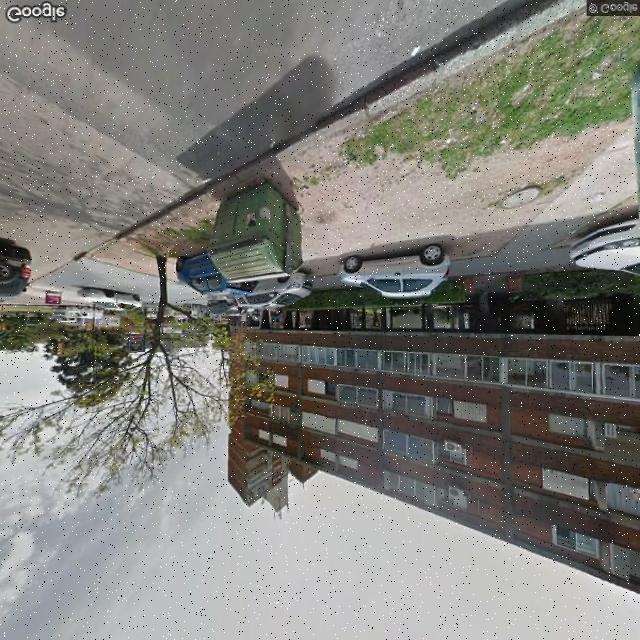garbage container: (203, 176, 316, 293)
